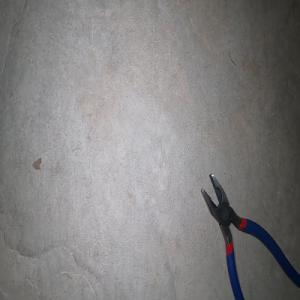Pliers: (200, 172, 300, 300)
